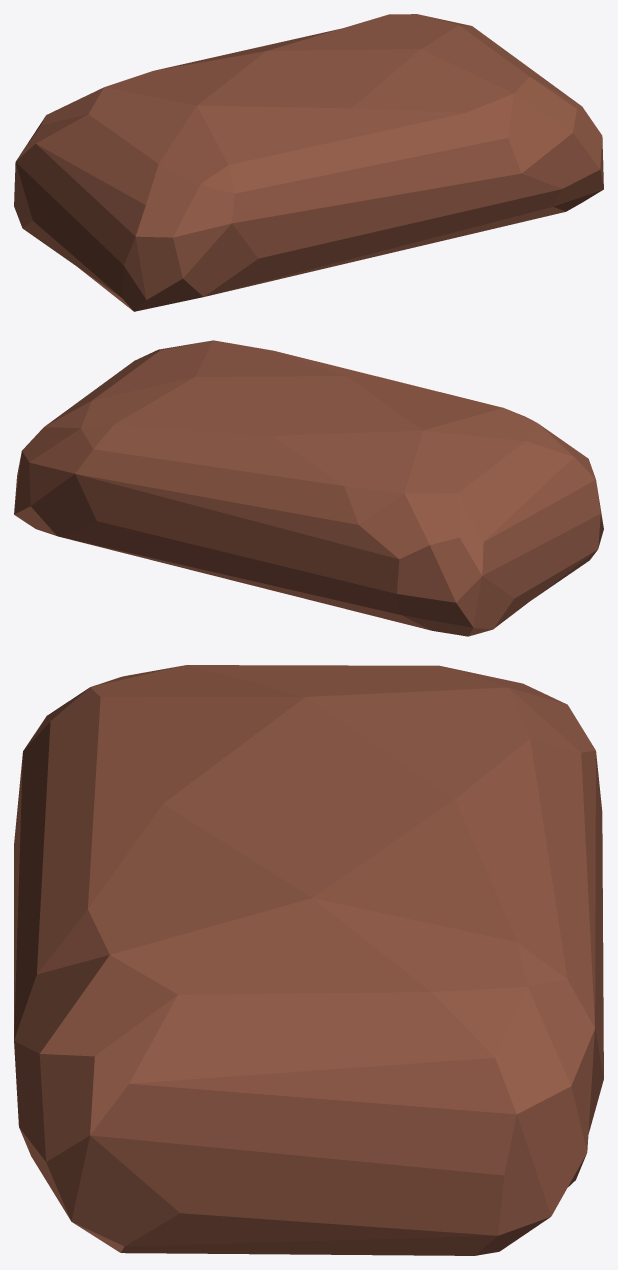
The model's file is bag.glb.
3 views of the same model, one above another, from view 1: azimuth 30°, elevation 25°; view 2: azimuth 150°, elevation 25°; view 3: azimuth 270°, elevation 25° (orthographic). The views are drawn at different scales.
Visible parts, largest first — view 1: bag; view 2: bag; view 3: bag.
Boxes of the visible parts, x1=… form: bag: x1=14, y1=14, x2=603, y2=311; bag: x1=14, y1=340, x2=603, y2=636; bag: x1=14, y1=665, x2=603, y2=1255.
Bounding box in the file's own units: 3.54 × 1.03 × 2.06.
Materials: 1 (1 with a texture image).
